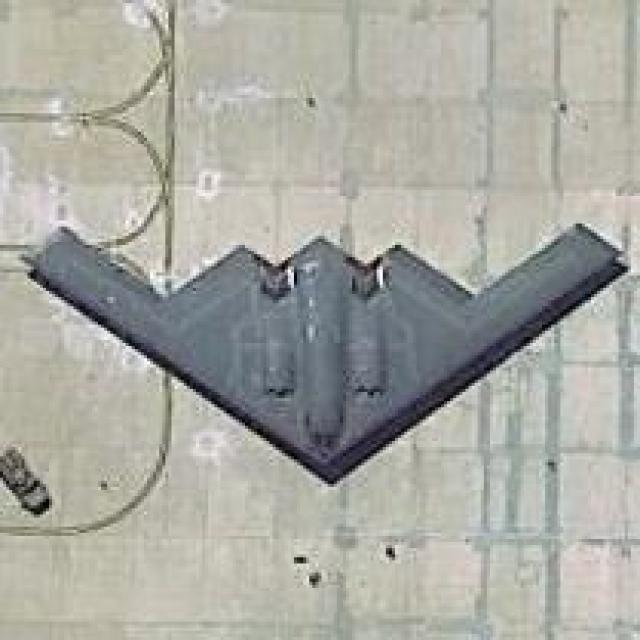B-2_TopDown: (15, 214, 631, 487)
